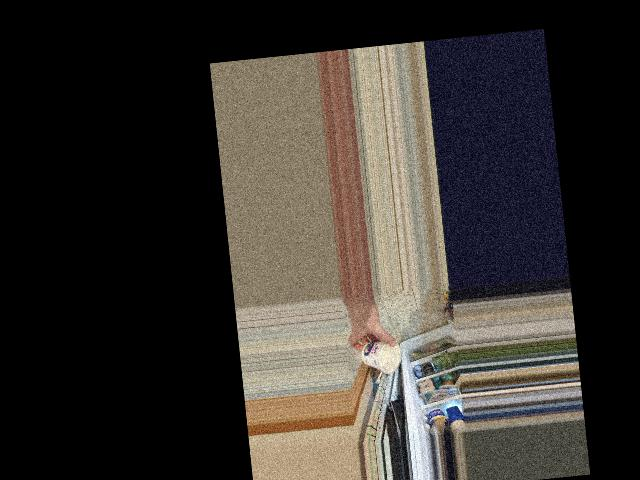cotage: (364, 339, 398, 378)
